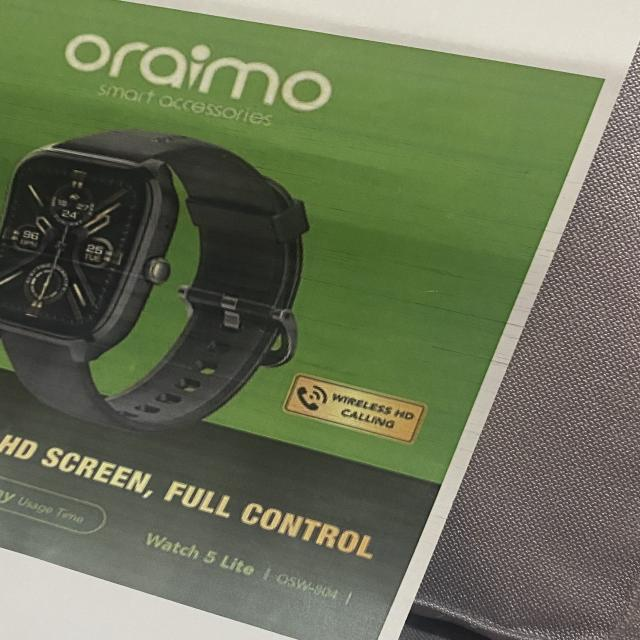Watch 5 Lite OSW-804: (138, 522, 361, 617)
